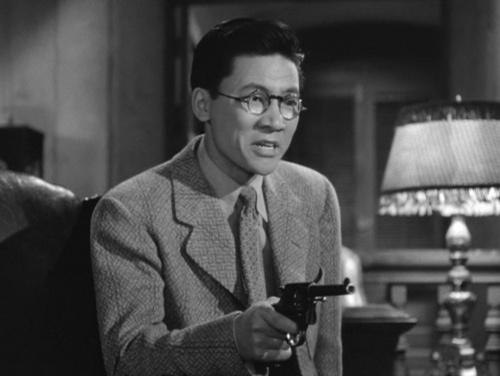Gun: (273, 275, 356, 346)
